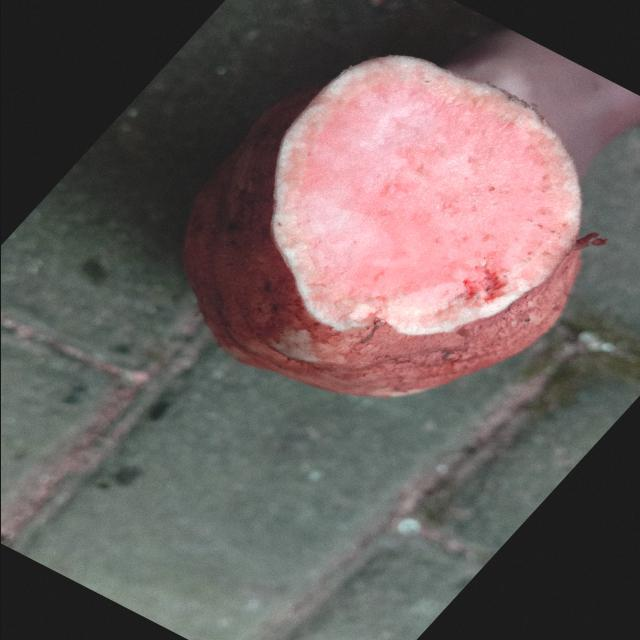Healthy Sweet Potato: (272, 56, 580, 335)
